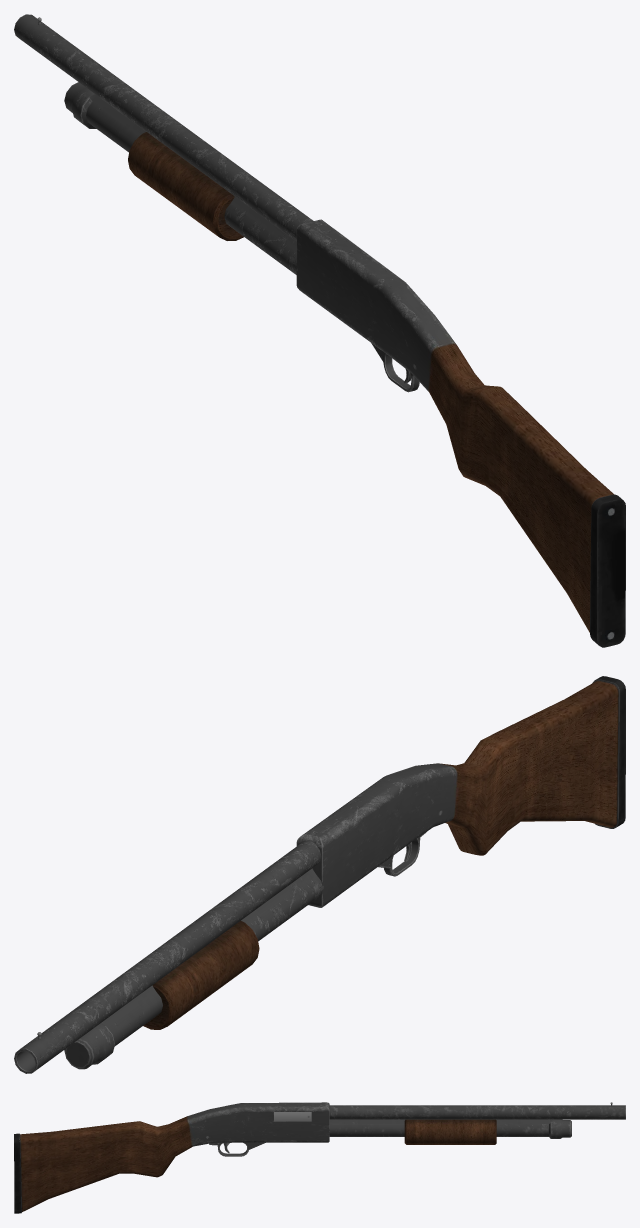
Rendered from shotgun.glb.
3 views of the same model, one above another, from view 1: azimuth 30°, elevation 25°; view 2: azimuth 150°, elevation 25°; view 3: azimuth 270°, elevation 25° (orthographic). The views are drawn at different scales.
Visible parts, largest first — view 1: Shotgun, Fore_Stock; view 2: Shotgun, Fore_Stock; view 3: Shotgun, Fore_Stock, Ejection_Port.
Boxes of the visible parts, bbox=[...] form: Shotgun: bbox=[14, 14, 625, 647]; Fore_Stock: bbox=[128, 132, 243, 240]; Shotgun: bbox=[14, 676, 625, 1073]; Fore_Stock: bbox=[143, 921, 259, 1029]; Shotgun: bbox=[14, 1102, 625, 1213]; Fore_Stock: bbox=[404, 1119, 496, 1144]; Ejection_Port: bbox=[274, 1112, 311, 1121].
Bounding box in the file's own units: 0.0562 × 0.2407 × 1.22.
1 material, 1 textured.
